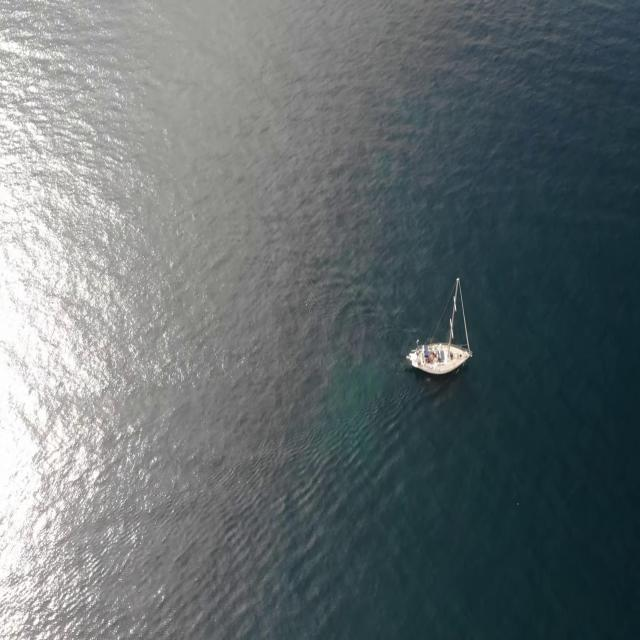sailboat: (407, 276, 472, 375)
